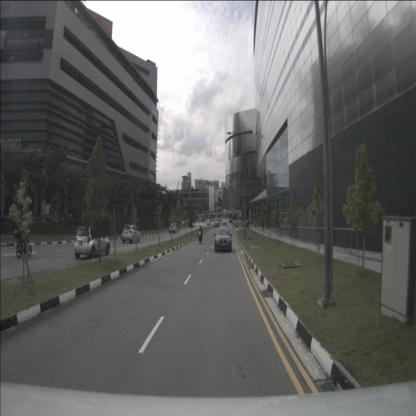vehicle-car: (74, 226, 110, 259), (214, 227, 232, 252), (122, 224, 141, 244), (169, 223, 179, 234), (221, 221, 228, 230), (214, 218, 220, 227), (207, 219, 211, 226)
vehicle-motorcycle: (14, 214, 32, 259), (198, 225, 202, 244)
